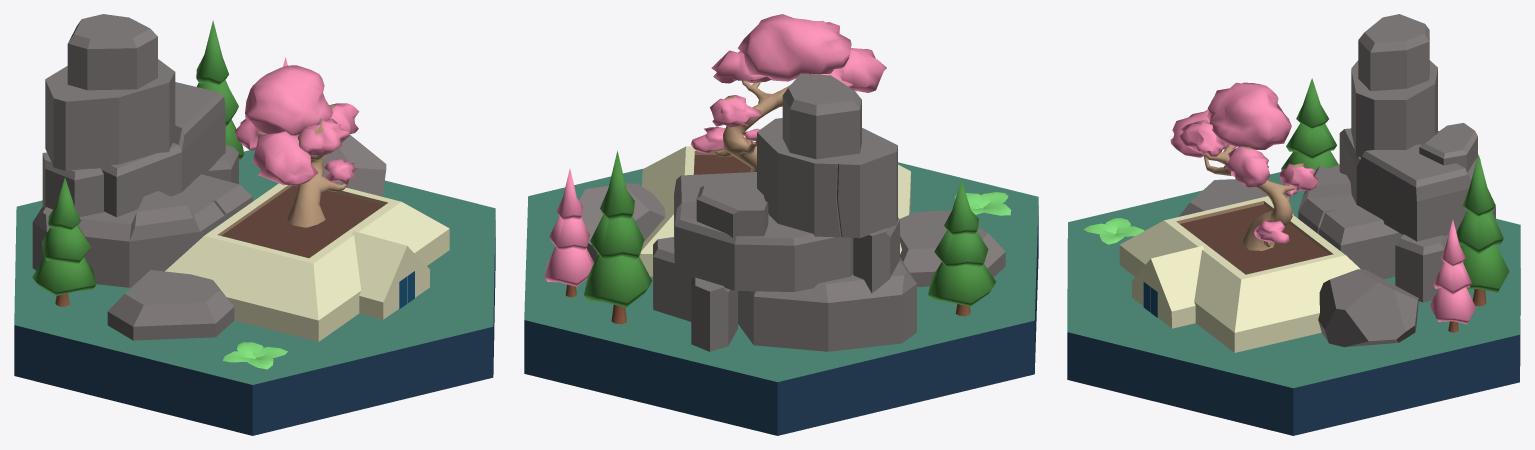
The model's file is Macro - Townhall lvl 1011 Soil Land rev.fbx.
The picture shows the model from 3 angles, left to right: view 1: azimuth 30°, elevation 25°; view 2: azimuth 150°, elevation 25°; view 3: azimuth 270°, elevation 25°; orthographic projection. The views are drawn at different scales.
Parts seen in each view (by area): view 1: Cylinder.051, Rock Type1 02 mesh.001, Bonsai.003, Rock Type4 04 mesh.001, Cube.003, Tree_Spruce_tiny_01.003, Tree_Spruce_tiny_01.002, Rock Type2 04 mesh.001, Plane.001; view 2: Cylinder.051, Rock Type1 02 mesh.001, Bonsai.003, Tree_Spruce_tiny_01.002, Tree_Spruce_tiny_01.003, Rock Type4 04 mesh.001, Tree_Spruce_tiny_01.012, Rock Type2 04 mesh.001, Plane.001; view 3: Cylinder.051, Rock Type1 02 mesh.001, Bonsai.003, Rock Type2 04 mesh.001, Tree_Spruce_tiny_01.002, Cube.003, Tree_Spruce_tiny_01.012, Tree_Spruce_tiny_01.003, Rock Type4 04 mesh.001, Plane.001.
Part boxes in pixels (x1,y1,x2,y2): Cylinder.051: [14, 149, 495, 435]; Rock Type1 02 mesh.001: [32, 14, 252, 287]; Bonsai.003: [165, 65, 449, 341]; Rock Type4 04 mesh.001: [107, 270, 234, 340]; Cube.003: [352, 231, 429, 319]; Tree_Spruce_tiny_01.003: [32, 177, 96, 306]; Tree_Spruce_tiny_01.002: [196, 20, 244, 160]; Rock Type2 04 mesh.001: [322, 135, 386, 196]; Plane.001: [222, 342, 287, 369]; Cylinder.051: [524, 162, 1038, 435]; Rock Type1 02 mesh.001: [653, 73, 916, 351]; Bonsai.003: [639, 14, 910, 276]; Tree_Spruce_tiny_01.002: [584, 150, 651, 324]; Tree_Spruce_tiny_01.003: [928, 179, 995, 316]; Rock Type4 04 mesh.001: [900, 210, 1005, 286]; Tree_Spruce_tiny_01.012: [544, 168, 593, 297]; Rock Type2 04 mesh.001: [579, 183, 665, 262]; Plane.001: [954, 192, 1011, 215]; Cylinder.051: [1067, 172, 1520, 435]; Rock Type1 02 mesh.001: [1298, 14, 1495, 302]; Bonsai.003: [1119, 82, 1360, 352]; Rock Type2 04 mesh.001: [1318, 269, 1418, 347]; Tree_Spruce_tiny_01.002: [1456, 154, 1509, 306]; Cube.003: [1131, 245, 1203, 328]; Tree_Spruce_tiny_01.012: [1429, 220, 1475, 332]; Tree_Spruce_tiny_01.003: [1281, 78, 1338, 170]; Rock Type4 04 mesh.001: [1178, 179, 1295, 216]; Plane.001: [1083, 218, 1144, 244].
Size of the model in its own units: 197 by 107 by 172.
